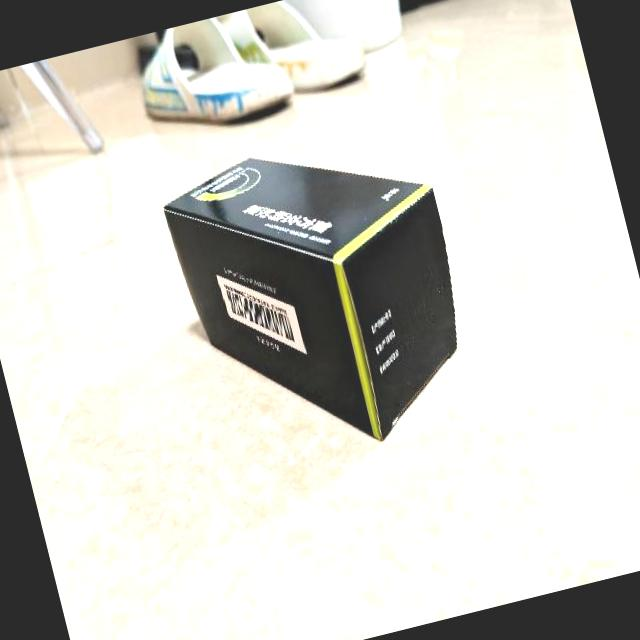box: (151, 111, 490, 482)
